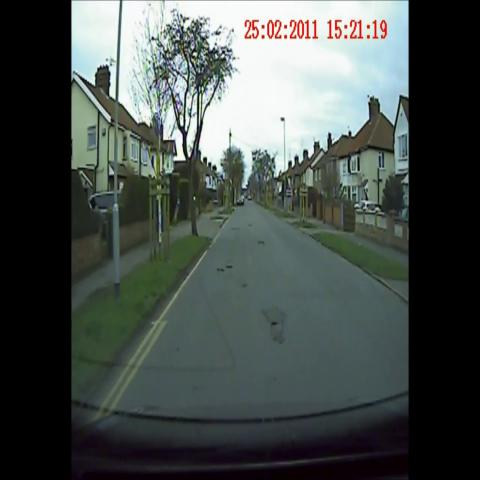pothole: (266, 305, 288, 351), (213, 254, 232, 280), (236, 273, 250, 300), (254, 231, 265, 251), (227, 222, 239, 240), (244, 215, 254, 232)
